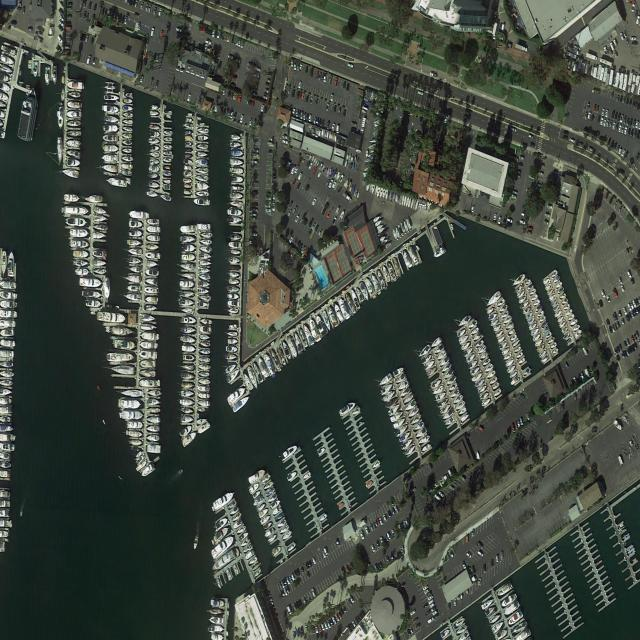large-vehicle: (514, 43, 528, 53), (491, 23, 498, 40), (585, 52, 597, 61)
ship: (16, 85, 42, 145), (211, 547, 240, 574), (211, 534, 235, 560), (212, 489, 235, 512), (227, 385, 247, 405), (232, 394, 251, 414), (246, 365, 260, 392), (308, 318, 322, 344), (212, 525, 230, 545), (269, 348, 283, 373), (97, 312, 126, 324), (280, 443, 298, 462), (248, 467, 266, 486), (510, 619, 529, 637), (506, 609, 524, 628), (503, 599, 521, 618), (286, 335, 299, 360), (263, 352, 276, 377), (339, 400, 357, 418), (485, 289, 502, 308), (252, 360, 264, 385), (257, 356, 270, 379), (338, 297, 350, 321), (500, 592, 518, 608), (496, 581, 514, 597), (106, 176, 128, 189), (106, 352, 134, 362), (327, 305, 339, 328), (315, 314, 327, 337), (303, 323, 315, 346), (511, 272, 527, 289), (182, 430, 197, 448), (364, 276, 376, 298), (111, 326, 135, 337), (457, 313, 473, 329), (141, 462, 156, 479), (408, 244, 419, 267), (350, 288, 361, 311), (345, 292, 356, 315), (79, 278, 102, 289), (392, 257, 403, 279), (371, 272, 382, 294), (321, 310, 332, 332), (281, 339, 292, 361), (417, 343, 432, 359), (226, 368, 241, 384), (111, 365, 135, 375), (64, 206, 88, 216), (480, 596, 495, 612), (378, 372, 393, 388), (491, 618, 505, 635), (359, 281, 370, 302), (333, 303, 344, 324), (298, 328, 309, 349), (293, 332, 304, 353), (114, 340, 135, 351), (66, 217, 87, 228), (214, 517, 229, 532), (377, 269, 387, 290), (197, 421, 211, 436), (57, 136, 64, 166), (122, 410, 143, 420), (453, 615, 467, 630), (395, 423, 409, 438), (387, 402, 401, 417), (1, 44, 17, 57), (0, 54, 16, 67), (121, 389, 144, 398), (277, 347, 287, 367), (121, 399, 141, 409), (7, 252, 15, 277), (433, 246, 447, 260), (455, 623, 469, 637), (487, 611, 501, 625), (390, 409, 404, 423), (180, 424, 193, 439), (57, 105, 65, 129), (403, 250, 413, 269), (244, 372, 254, 391), (70, 228, 89, 238), (430, 335, 443, 349), (400, 437, 414, 450), (380, 382, 393, 396), (383, 389, 396, 403), (385, 396, 399, 409), (393, 416, 406, 430), (83, 290, 103, 299), (612, 418, 624, 433), (388, 263, 397, 282), (70, 240, 89, 249), (139, 350, 158, 359), (140, 332, 159, 341), (129, 210, 148, 219), (432, 384, 445, 397), (438, 355, 451, 368), (398, 430, 411, 443), (410, 413, 423, 426), (402, 393, 415, 406), (408, 406, 420, 420), (399, 386, 411, 400), (146, 443, 161, 454), (382, 265, 391, 283), (85, 194, 103, 203), (140, 341, 158, 350), (104, 277, 111, 300), (415, 427, 428, 439), (418, 434, 431, 446), (404, 444, 416, 457), (430, 378, 442, 391), (426, 365, 438, 378), (423, 359, 436, 371), (471, 371, 483, 384), (225, 362, 237, 375), (1, 251, 7, 277), (484, 605, 496, 618), (405, 399, 417, 412), (67, 81, 84, 90), (62, 169, 79, 178), (85, 299, 102, 308), (139, 369, 156, 378), (141, 323, 158, 332), (139, 379, 158, 387), (259, 514, 271, 526), (356, 287, 365, 303), (435, 390, 447, 402), (421, 353, 433, 365), (436, 350, 448, 362), (102, 164, 118, 173), (73, 250, 89, 259), (1, 281, 17, 290), (64, 194, 80, 203), (145, 251, 161, 260), (413, 420, 425, 432), (196, 222, 212, 231), (437, 397, 449, 409), (395, 373, 407, 385), (249, 482, 260, 495), (441, 362, 452, 375), (442, 409, 453, 422), (103, 82, 116, 93), (398, 379, 409, 392), (392, 366, 405, 377), (180, 225, 197, 233), (180, 317, 197, 325), (125, 293, 142, 301), (66, 129, 81, 138), (141, 314, 156, 323), (287, 470, 298, 482), (271, 545, 282, 557), (258, 507, 269, 519), (253, 495, 264, 507), (270, 499, 282, 510), (458, 333, 469, 345), (434, 344, 445, 356), (443, 368, 454, 380), (446, 375, 457, 387), (455, 400, 466, 412), (474, 377, 485, 389), (136, 460, 147, 472), (252, 560, 263, 572), (440, 627, 451, 639), (440, 403, 451, 415), (208, 625, 224, 633), (103, 105, 119, 113), (102, 154, 118, 162), (194, 198, 210, 206), (127, 421, 143, 429), (140, 360, 156, 368), (180, 398, 194, 407), (182, 335, 196, 344), (146, 434, 160, 443), (282, 530, 293, 541), (263, 480, 274, 491), (453, 394, 464, 405), (470, 365, 481, 376), (160, 193, 172, 203), (103, 134, 118, 142), (66, 140, 81, 148), (245, 549, 255, 561), (243, 543, 253, 555), (241, 537, 251, 549), (236, 524, 246, 536), (147, 389, 162, 397), (179, 290, 194, 298), (180, 263, 195, 271), (180, 235, 195, 243), (179, 299, 194, 307), (126, 275, 141, 283), (127, 257, 142, 265), (144, 286, 159, 294), (351, 406, 361, 418), (209, 608, 223, 616), (181, 390, 195, 398), (181, 372, 195, 380), (182, 345, 196, 353), (182, 326, 196, 334), (105, 115, 119, 123), (104, 125, 118, 133), (230, 192, 244, 200), (230, 158, 244, 166), (67, 159, 81, 167), (93, 250, 107, 258), (180, 281, 194, 289), (181, 272, 195, 280), (129, 266, 143, 274), (145, 269, 159, 277), (468, 319, 478, 330), (477, 344, 487, 355), (484, 363, 494, 374), (486, 369, 496, 380), (477, 384, 487, 395), (481, 397, 491, 408), (488, 311, 498, 322), (256, 502, 266, 513), (277, 518, 287, 529), (280, 524, 290, 535), (287, 542, 297, 553), (267, 533, 277, 544), (264, 527, 274, 538), (275, 511, 285, 522), (268, 493, 278, 504), (265, 487, 275, 498), (261, 474, 271, 485), (461, 341, 471, 352), (464, 346, 474, 357), (466, 352, 476, 363), (448, 382, 458, 393), (468, 359, 478, 370), (239, 531, 249, 542), (233, 519, 243, 530), (232, 512, 242, 523), (230, 506, 240, 517), (227, 500, 237, 511), (445, 416, 455, 427), (209, 617, 224, 624), (103, 145, 118, 152), (67, 101, 82, 108), (45, 66, 50, 87), (128, 430, 143, 437), (128, 439, 143, 446), (93, 224, 108, 231), (127, 285, 142, 292), (128, 248, 143, 255), (68, 91, 81, 99), (93, 259, 106, 267), (148, 398, 161, 406), (93, 232, 106, 240), (227, 285, 240, 293), (128, 239, 141, 247), (147, 225, 160, 233), (146, 243, 159, 251), (510, 376, 520, 386), (522, 366, 532, 376), (457, 328, 467, 338), (490, 318, 500, 328), (263, 521, 273, 531), (272, 506, 282, 516), (518, 295, 528, 305), (520, 300, 530, 310), (536, 343, 546, 353), (421, 443, 431, 453), (197, 416, 207, 426), (53, 66, 58, 86), (136, 454, 146, 464), (503, 315, 512, 326), (499, 303, 508, 314), (531, 327, 540, 338), (249, 556, 258, 567), (181, 382, 195, 389), (211, 600, 225, 607), (230, 201, 244, 208), (230, 167, 244, 174), (195, 167, 209, 174), (67, 111, 81, 118), (67, 120, 81, 127), (66, 150, 80, 157), (76, 269, 90, 276), (147, 416, 161, 423), (147, 407, 161, 414), (181, 254, 195, 261), (182, 245, 196, 252), (129, 221, 143, 228), (228, 256, 240, 264), (146, 260, 158, 268), (181, 416, 194, 423), (182, 364, 195, 371), (198, 378, 211, 385), (197, 385, 210, 392), (198, 400, 211, 407), (215, 577, 222, 590), (229, 217, 242, 224), (231, 150, 244, 157), (197, 183, 210, 190), (75, 260, 88, 267), (228, 241, 241, 248), (147, 425, 160, 432), (94, 207, 107, 214), (94, 215, 107, 222), (198, 294, 211, 301), (200, 318, 213, 325), (129, 230, 142, 237), (147, 235, 160, 242), (145, 278, 158, 285), (223, 571, 230, 584), (505, 321, 514, 331), (507, 364, 516, 374), (509, 370, 518, 380), (500, 310, 509, 320), (473, 332, 482, 342), (475, 339, 484, 349), (480, 351, 489, 361), (482, 358, 491, 368), (480, 391, 489, 401), (489, 376, 498, 386), (493, 388, 502, 398), (503, 352, 512, 362), (499, 340, 508, 350), (495, 329, 504, 339), (253, 490, 262, 500), (529, 322, 538, 332), (534, 338, 543, 348), (540, 355, 550, 364), (372, 460, 381, 470), (451, 389, 460, 399), (458, 407, 467, 417), (104, 95, 119, 101), (195, 191, 210, 197), (319, 513, 328, 523), (149, 181, 160, 189), (254, 568, 262, 579), (399, 221, 406, 233), (226, 346, 238, 353), (183, 355, 195, 362), (226, 569, 233, 581), (230, 185, 244, 191), (232, 176, 244, 183), (121, 163, 133, 170), (230, 209, 242, 216), (233, 564, 240, 576), (193, 536, 199, 550), (200, 246, 212, 253), (199, 253, 211, 260), (200, 260, 212, 267), (199, 267, 211, 274), (227, 293, 239, 300), (145, 297, 159, 303), (200, 326, 212, 333), (617, 455, 624, 467), (512, 339, 521, 348), (491, 382, 500, 391), (505, 359, 514, 368), (497, 335, 506, 344), (493, 324, 502, 333), (514, 285, 523, 294), (517, 290, 526, 299), (525, 311, 534, 320), (532, 333, 541, 342), (538, 350, 547, 359), (547, 336, 556, 345), (380, 238, 389, 247), (461, 413, 470, 422), (471, 326, 479, 336), (523, 306, 531, 316), (392, 228, 398, 241), (198, 364, 211, 370), (196, 175, 209, 181), (94, 268, 107, 274), (200, 232, 213, 238), (227, 301, 240, 307), (231, 234, 242, 241), (518, 357, 526, 366), (565, 308, 573, 317), (555, 281, 563, 290), (553, 275, 561, 284), (497, 299, 505, 308), (502, 347, 510, 356), (554, 310, 562, 319), (303, 471, 311, 480), (528, 316, 536, 325), (397, 224, 403, 236), (373, 215, 381, 224), (403, 220, 409, 232), (374, 219, 382, 228), (182, 408, 194, 414), (199, 357, 211, 363), (198, 393, 210, 399), (146, 191, 158, 197), (196, 159, 208, 165), (197, 128, 209, 134), (122, 156, 134, 162), (34, 61, 38, 79), (200, 239, 212, 245), (199, 274, 211, 280), (147, 219, 159, 225), (200, 334, 210, 341), (226, 354, 237, 360), (199, 371, 210, 377), (149, 166, 160, 172), (150, 131, 161, 137), (230, 142, 241, 148), (198, 135, 209, 141), (121, 170, 132, 176), (199, 281, 210, 287), (198, 288, 209, 294), (365, 181, 371, 192), (376, 186, 381, 199), (514, 346, 522, 354), (570, 319, 578, 327), (550, 299, 558, 307), (539, 316, 547, 324), (537, 310, 545, 318), (529, 288, 537, 296), (337, 501, 345, 509), (365, 480, 373, 488), (377, 227, 385, 235), (510, 334, 517, 343), (516, 351, 523, 360), (575, 329, 582, 338), (568, 313, 575, 322), (551, 270, 558, 279), (563, 332, 570, 341), (549, 293, 556, 302), (533, 299, 540, 308), (318, 447, 325, 456), (395, 226, 400, 238), (406, 218, 411, 230), (379, 187, 384, 199), (227, 331, 237, 337), (150, 159, 160, 165), (150, 138, 160, 144), (231, 134, 241, 140), (198, 152, 208, 158), (122, 148, 132, 154), (122, 140, 132, 146), (122, 133, 132, 139), (123, 112, 133, 118), (182, 308, 192, 314), (199, 302, 209, 308), (228, 308, 238, 314), (229, 279, 239, 285), (230, 272, 240, 278), (231, 249, 241, 255), (146, 306, 158, 311), (343, 179, 349, 189), (573, 324, 580, 332), (563, 303, 570, 311), (561, 326, 568, 334), (487, 307, 494, 315), (547, 288, 554, 296), (545, 283, 552, 291), (550, 342, 557, 350), (545, 332, 552, 340), (541, 321, 548, 329), (535, 305, 542, 313), (531, 294, 538, 302), (527, 283, 534, 291), (377, 223, 384, 231), (135, 451, 142, 459), (227, 339, 238, 344), (200, 342, 211, 347), (149, 125, 160, 130), (197, 144, 208, 149), (122, 127, 133, 132), (123, 106, 134, 111), (184, 159, 193, 165), (183, 171, 192, 177), (183, 178, 192, 184), (61, 88, 65, 101), (414, 201, 419, 211), (200, 350, 210, 355), (150, 152, 160, 157), (163, 130, 173, 135), (150, 111, 160, 116), (183, 123, 193, 128), (123, 99, 133, 104), (553, 305, 560, 312), (559, 293, 566, 300), (557, 287, 564, 294), (559, 321, 566, 328), (557, 316, 564, 323), (543, 278, 550, 285), (552, 348, 559, 355), (509, 328, 515, 336), (406, 196, 410, 208), (403, 195, 407, 207), (385, 189, 389, 201), (197, 407, 206, 412), (163, 158, 172, 163), (163, 151, 172, 156), (164, 137, 173, 142), (151, 146, 160, 151), (476, 451, 481, 460), (340, 211, 345, 220), (351, 186, 356, 195), (339, 174, 344, 183), (412, 199, 416, 210), (410, 199, 414, 210), (408, 197, 412, 208), (401, 195, 405, 206), (382, 188, 386, 199), (122, 120, 133, 124), (374, 185, 378, 196), (371, 184, 375, 195), (562, 298, 568, 305), (380, 235, 386, 242), (229, 324, 237, 329), (164, 144, 172, 149), (163, 172, 171, 177), (184, 166, 192, 171), (185, 136, 193, 141), (525, 279, 531, 285), (149, 174, 158, 178), (395, 194, 399, 203), (163, 185, 170, 190), (163, 179, 170, 184), (185, 142, 192, 147), (184, 153, 191, 158), (619, 522, 624, 529), (185, 118, 192, 123), (184, 184, 192, 188), (184, 191, 192, 195), (125, 93, 133, 97), (18, 69, 22, 77), (344, 160, 348, 168), (323, 166, 327, 174), (321, 164, 325, 172), (311, 154, 315, 162), (356, 149, 362, 154), (166, 114, 172, 119), (348, 154, 351, 164), (211, 539, 215, 546), (365, 151, 369, 158), (356, 192, 360, 199), (326, 169, 330, 176), (314, 159, 318, 166), (313, 157, 317, 164), (450, 224, 454, 231), (418, 203, 421, 212), (152, 105, 158, 109), (90, 311, 96, 315), (199, 122, 205, 126), (352, 163, 355, 171), (336, 175, 340, 181), (324, 168, 328, 174), (427, 205, 430, 213), (424, 204, 427, 212), (416, 245, 420, 251), (20, 511, 23, 518), (422, 204, 425, 211), (114, 305, 119, 309), (179, 469, 183, 474), (106, 329, 110, 333), (421, 203, 423, 211), (434, 226, 438, 230), (165, 166, 170, 169)
small-vehicle: (286, 605, 293, 616), (359, 530, 365, 541), (580, 371, 586, 382), (292, 602, 298, 613), (435, 493, 442, 502), (422, 601, 429, 610), (425, 608, 432, 617), (564, 361, 570, 371), (612, 49, 618, 59), (606, 137, 612, 147), (603, 46, 609, 56), (573, 376, 579, 386), (385, 555, 391, 565), (337, 611, 343, 621), (331, 616, 337, 626), (288, 235, 294, 245), (328, 179, 334, 189), (297, 172, 303, 182), (290, 165, 296, 175), (477, 542, 484, 550), (460, 475, 467, 483), (412, 616, 419, 624), (427, 617, 434, 625), (36, 35, 43, 43), (613, 312, 618, 323), (306, 570, 311, 581), (582, 347, 588, 356), (625, 338, 631, 347), (461, 561, 467, 570), (622, 307, 628, 316), (600, 290, 606, 299), (387, 510, 393, 519), (632, 333, 638, 342), (321, 550, 327, 559), (323, 547, 329, 556), (390, 528, 396, 537), (356, 615, 362, 624), (354, 617, 360, 626), (58, 24, 64, 33), (294, 215, 300, 224), (307, 228, 313, 237), (292, 206, 298, 215), (325, 178, 331, 187), (611, 323, 616, 333), (632, 299, 637, 309), (627, 270, 632, 280), (613, 289, 618, 299), (610, 90, 615, 100), (612, 142, 617, 152), (635, 331, 640, 341), (506, 427, 511, 437), (312, 556, 317, 566), (345, 564, 350, 574), (312, 588, 317, 598), (380, 537, 385, 547), (327, 620, 332, 630), (609, 41, 614, 51), (112, 11, 117, 21), (500, 23, 505, 33), (432, 608, 439, 615), (429, 602, 436, 609), (427, 595, 434, 602), (230, 81, 237, 88), (430, 71, 437, 78), (478, 550, 484, 558), (478, 425, 484, 433), (629, 301, 635, 309), (449, 550, 455, 558), (360, 610, 366, 618), (339, 609, 345, 617), (57, 35, 63, 43), (56, 45, 62, 53), (287, 209, 293, 217), (288, 201, 294, 209), (331, 181, 337, 189), (312, 167, 318, 175), (297, 157, 303, 165), (605, 191, 610, 200), (519, 417, 524, 426), (629, 310, 634, 319), (372, 522, 377, 531), (365, 527, 370, 536), (627, 303, 632, 312), (619, 32, 624, 41), (618, 147, 623, 156), (336, 538, 341, 547), (342, 566, 347, 575), (298, 599, 303, 608), (625, 97, 630, 106), (610, 140, 615, 149), (283, 587, 288, 596), (291, 573, 296, 582), (387, 532, 392, 541), (391, 507, 396, 516), (358, 612, 363, 621), (335, 614, 340, 623), (329, 618, 334, 627), (324, 622, 329, 631), (86, 56, 91, 65), (115, 13, 120, 22), (92, 57, 97, 66), (187, 93, 192, 102), (153, 7, 158, 16), (260, 103, 265, 112), (309, 219, 314, 228), (213, 104, 218, 113), (332, 217, 337, 226), (312, 198, 317, 207), (613, 201, 618, 210), (609, 196, 614, 205), (286, 161, 291, 170), (334, 77, 339, 86), (239, 115, 244, 124), (302, 156, 307, 165), (318, 118, 323, 127), (500, 551, 504, 562), (323, 73, 327, 84), (466, 552, 472, 559), (410, 487, 416, 494), (439, 491, 445, 498), (431, 605, 437, 612), (619, 168, 625, 175), (526, 188, 533, 194), (266, 598, 273, 604), (58, 20, 64, 27), (205, 39, 212, 45), (417, 90, 424, 96), (529, 174, 535, 181), (520, 219, 526, 226), (506, 218, 513, 224), (515, 169, 521, 176), (511, 126, 517, 133), (618, 343, 623, 351), (634, 307, 639, 315), (632, 309, 637, 317), (625, 314, 630, 322), (483, 564, 487, 574), (409, 626, 414, 634), (605, 109, 609, 119), (636, 15, 640, 25), (613, 39, 618, 47), (618, 277, 623, 285), (620, 285, 625, 293), (598, 299, 603, 307), (615, 145, 620, 153), (376, 519, 381, 527), (376, 540, 380, 550), (448, 469, 453, 477), (631, 334, 635, 344), (633, 343, 638, 351), (628, 346, 633, 354), (511, 423, 515, 433), (286, 577, 291, 585), (288, 575, 293, 583), (390, 552, 394, 562), (371, 545, 376, 553), (352, 620, 357, 628), (350, 596, 355, 604), (348, 599, 353, 607), (342, 606, 347, 614), (321, 624, 326, 632), (85, 13, 90, 21), (59, 14, 64, 22), (151, 28, 155, 38), (159, 31, 164, 39), (311, 222, 316, 230), (337, 186, 342, 194), (317, 171, 322, 179), (308, 162, 313, 170), (306, 160, 311, 168), (618, 206, 623, 214), (503, 215, 507, 225), (292, 179, 297, 187), (315, 117, 319, 127), (292, 107, 296, 117), (326, 102, 330, 112), (517, 419, 521, 428), (379, 517, 383, 526), (374, 520, 378, 529), (449, 485, 455, 491), (410, 610, 416, 616), (617, 113, 621, 122), (612, 122, 616, 131), (609, 120, 613, 129), (600, 117, 604, 126), (601, 108, 605, 117), (588, 146, 594, 152), (577, 141, 583, 147), (569, 138, 575, 144), (623, 30, 627, 39), (618, 309, 622, 318), (618, 124, 622, 133), (621, 149, 625, 158), (623, 96, 627, 105), (619, 95, 623, 104), (630, 129, 634, 138), (635, 120, 639, 129), (626, 117, 630, 126), (627, 127, 631, 136), (624, 126, 628, 135), (383, 514, 387, 523), (235, 38, 239, 47), (231, 36, 235, 45), (222, 32, 226, 41), (209, 27, 213, 36), (207, 26, 211, 35), (379, 561, 383, 570), (597, 115, 601, 124), (631, 344, 635, 353), (514, 421, 518, 430), (398, 523, 402, 532), (405, 518, 409, 527), (403, 520, 407, 529), (315, 625, 319, 634), (124, 16, 128, 25), (88, 1, 92, 10), (91, 36, 95, 45), (251, 99, 255, 108), (85, 34, 89, 43), (176, 27, 182, 33), (158, 8, 162, 17), (238, 94, 242, 103), (232, 75, 238, 81), (218, 61, 222, 70), (197, 98, 201, 107), (228, 54, 234, 60), (140, 2, 144, 11), (145, 4, 149, 13), (305, 248, 309, 257), (301, 246, 305, 255), (530, 142, 536, 148), (539, 162, 545, 168), (538, 171, 544, 177), (547, 204, 553, 210), (471, 204, 475, 213), (528, 134, 534, 140), (329, 75, 333, 84), (318, 71, 322, 80), (316, 70, 320, 79), (310, 68, 314, 77), (299, 63, 303, 72), (266, 78, 272, 84), (233, 112, 237, 121), (282, 134, 288, 140), (336, 125, 340, 134), (326, 121, 330, 130), (321, 120, 325, 129), (313, 116, 317, 125), (308, 114, 312, 123), (295, 109, 299, 118), (351, 122, 357, 128), (424, 588, 429, 595), (423, 584, 428, 591), (606, 319, 611, 326), (394, 506, 399, 513), (266, 593, 271, 600), (253, 74, 260, 79), (621, 351, 625, 359), (616, 346, 620, 354), (621, 317, 625, 325), (616, 321, 620, 329), (609, 325, 613, 333), (478, 578, 482, 586), (370, 524, 374, 532), (614, 112, 618, 120), (611, 111, 615, 119), (588, 112, 592, 120), (631, 4, 635, 12), (620, 115, 624, 123), (615, 123, 619, 131), (633, 130, 637, 138), (632, 120, 636, 128), (629, 118, 633, 126), (233, 37, 237, 45), (224, 34, 228, 42), (219, 32, 223, 40), (632, 100, 636, 108), (629, 98, 633, 106), (377, 563, 381, 571), (281, 581, 285, 589), (303, 597, 307, 605), (301, 566, 305, 574), (305, 562, 309, 570), (308, 560, 312, 568), (155, 81, 159, 89), (144, 51, 148, 59), (140, 75, 144, 83), (137, 23, 141, 31), (104, 8, 108, 16), (94, 3, 98, 11), (83, 11, 87, 19), (222, 88, 226, 96), (204, 44, 208, 52), (148, 5, 152, 13), (248, 98, 252, 106), (327, 211, 331, 219), (498, 217, 502, 225), (493, 213, 497, 221), (444, 116, 448, 124), (305, 66, 309, 74), (248, 118, 252, 126), (227, 110, 231, 118), (343, 81, 347, 89), (298, 81, 302, 89), (338, 107, 342, 115), (310, 97, 314, 105), (330, 94, 334, 102), (315, 98, 319, 106), (292, 89, 296, 97), (429, 599, 434, 605), (426, 592, 431, 598), (563, 130, 569, 135), (527, 226, 533, 231), (526, 230, 532, 235), (506, 223, 512, 228), (268, 602, 273, 608), (134, 13, 140, 18), (64, 45, 70, 50), (236, 58, 241, 64), (11, 20, 17, 25), (544, 213, 550, 218), (543, 220, 549, 225), (521, 212, 526, 218), (511, 194, 517, 199), (519, 156, 525, 161), (348, 63, 354, 68), (264, 89, 270, 94), (255, 66, 260, 72), (253, 148, 259, 153), (282, 140, 288, 145), (332, 122, 335, 132), (623, 341, 627, 348), (626, 350, 630, 357), (628, 312, 632, 319), (623, 117, 627, 124), (631, 278, 635, 285), (607, 296, 611, 303), (616, 95, 620, 102), (65, 26, 72, 30), (315, 225, 319, 232), (250, 233, 257, 237), (250, 213, 257, 217), (251, 208, 258, 212), (251, 191, 258, 195), (251, 160, 258, 164), (252, 152, 259, 156), (229, 111, 233, 118), (223, 108, 227, 115), (306, 95, 310, 102), (301, 93, 305, 100), (466, 534, 469, 543), (472, 529, 475, 538), (561, 402, 564, 411), (496, 554, 499, 563), (596, 105, 599, 114), (593, 104, 596, 113), (635, 9, 638, 18), (621, 125, 624, 134), (205, 25, 208, 34), (305, 625, 308, 634), (156, 53, 159, 62), (233, 92, 236, 101), (122, 15, 125, 24), (294, 61, 297, 70), (300, 111, 303, 120), (297, 90, 300, 99), (563, 135, 568, 140), (512, 190, 517, 195), (518, 163, 523, 168), (263, 95, 268, 100), (494, 10, 497, 18), (614, 349, 618, 355), (614, 323, 617, 331), (454, 599, 457, 607), (491, 559, 494, 567), (603, 119, 606, 127), (585, 112, 588, 120), (630, 37, 636, 41), (319, 626, 322, 634), (66, 7, 72, 11), (66, 14, 72, 18), (64, 49, 70, 53), (230, 92, 233, 100), (228, 90, 231, 98), (227, 35, 230, 43), (238, 39, 241, 47), (217, 31, 220, 39), (200, 24, 203, 32), (22, 6, 25, 14), (250, 218, 258, 221), (252, 203, 258, 207), (347, 82, 350, 90), (297, 63, 300, 71), (291, 59, 294, 67), (220, 106, 223, 114), (288, 87, 291, 95), (298, 110, 301, 118), (606, 120, 609, 127), (635, 101, 638, 108), (591, 114, 594, 121), (241, 41, 244, 48), (214, 30, 217, 37), (212, 30, 215, 37), (202, 25, 205, 32), (303, 113, 306, 120), (313, 625, 315, 635), (27, 28, 32, 32), (66, 22, 72, 25), (291, 250, 293, 259), (294, 252, 296, 260)
